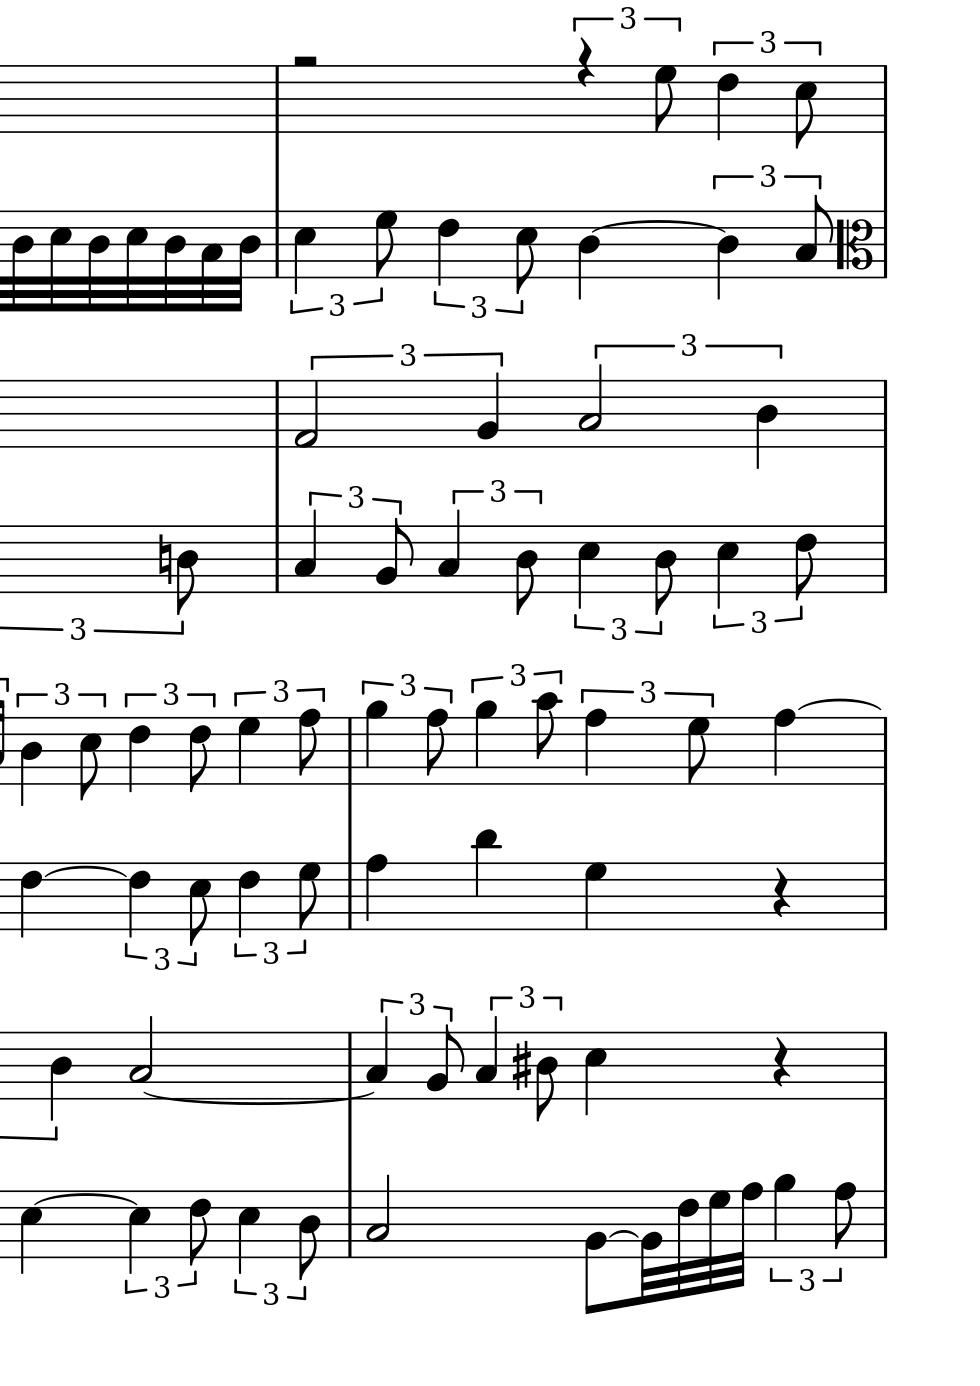2_1: (292, 378, 320, 451)
2_3: (577, 363, 603, 448), (365, 1174, 391, 1258), (128, 1015, 154, 1098)
3: (152, 945, 173, 973), (757, 27, 780, 53), (467, 293, 489, 319), (517, 984, 536, 1014), (68, 614, 87, 643), (750, 608, 769, 636), (508, 661, 527, 689), (798, 1265, 816, 1295), (261, 1280, 280, 1308), (152, 1274, 171, 1301), (490, 477, 507, 507), (609, 613, 627, 641), (398, 672, 416, 700), (263, 938, 281, 966), (637, 679, 657, 704), (53, 681, 70, 709), (272, 678, 288, 705), (679, 332, 697, 357), (619, 4, 635, 33), (760, 161, 777, 188), (399, 340, 416, 367), (408, 989, 425, 1016), (346, 483, 362, 510), (329, 292, 345, 318), (162, 683, 178, 708)
32_3: (198, 209, 223, 312)
32_4: (230, 209, 262, 313), (8, 210, 34, 313), (85, 211, 110, 312), (161, 210, 186, 312)
32_5: (46, 207, 72, 313), (123, 208, 148, 313)
4_2: (475, 371, 501, 449)
4_3: (292, 509, 318, 594), (435, 509, 461, 594), (472, 1015, 498, 1100), (363, 1017, 389, 1100)
4_4: (754, 378, 778, 471), (576, 210, 600, 301), (715, 210, 739, 300), (18, 717, 42, 807), (48, 1032, 72, 1121)
4_5: (17, 1189, 43, 1276), (575, 524, 600, 611), (714, 524, 739, 611), (291, 210, 316, 295), (582, 1030, 607, 1118), (237, 1189, 260, 1276), (126, 1190, 150, 1276)
4_6: (715, 64, 739, 141), (436, 209, 459, 286), (127, 716, 151, 793), (237, 861, 260, 938), (18, 861, 41, 937), (127, 861, 150, 938)
4_7: (583, 860, 608, 931), (237, 716, 261, 786)
4_8: (771, 708, 797, 787), (363, 852, 387, 931), (583, 707, 607, 787)
4_9: (473, 699, 497, 786), (771, 1172, 795, 1259), (364, 698, 387, 785)
64_2: (638, 1189, 664, 1304)
64_6: (673, 1189, 698, 1299)
64_7: (707, 1190, 731, 1295)
64_8: (733, 1181, 762, 1289)
8_10: (533, 690, 561, 787)
8_11: (472, 824, 498, 933)
8_2: (582, 1189, 607, 1316), (424, 1024, 463, 1100), (374, 517, 412, 593)
8_3: (793, 194, 832, 279)
8_4: (296, 1190, 321, 1281), (513, 525, 538, 617), (174, 524, 198, 615), (533, 1031, 558, 1122), (652, 525, 676, 616)
8_5: (186, 861, 211, 946), (513, 209, 538, 295), (793, 63, 817, 150), (77, 716, 101, 802)
8_6: (187, 1188, 211, 1266), (187, 716, 211, 793), (793, 523, 817, 602)
8_7: (685, 716, 711, 786), (296, 861, 321, 930), (653, 64, 678, 134), (373, 209, 398, 279)
8_8: (296, 708, 322, 786), (832, 1180, 857, 1260), (424, 708, 448, 786)
Cclef: (835, 209, 873, 280)
Natural: (156, 532, 173, 585)
Rests2: (287, 50, 322, 72)
Rests4: (770, 866, 792, 922), (770, 1035, 792, 1090), (575, 36, 595, 89)
Sharp: (510, 1039, 531, 1093)
Single_barline: (267, 210, 286, 278), (875, 525, 894, 593), (875, 718, 894, 784), (875, 863, 894, 929), (268, 66, 286, 131), (269, 381, 286, 448), (342, 862, 358, 929), (342, 718, 358, 784), (342, 1191, 358, 1257), (269, 526, 286, 591), (876, 380, 892, 448), (876, 211, 892, 278), (877, 1032, 893, 1099), (876, 66, 892, 131), (342, 1033, 357, 1095), (877, 1191, 892, 1257)
Slur: (143, 1091, 370, 1106), (591, 220, 727, 233), (798, 697, 880, 710), (33, 1194, 137, 1205), (608, 1229, 638, 1240)
